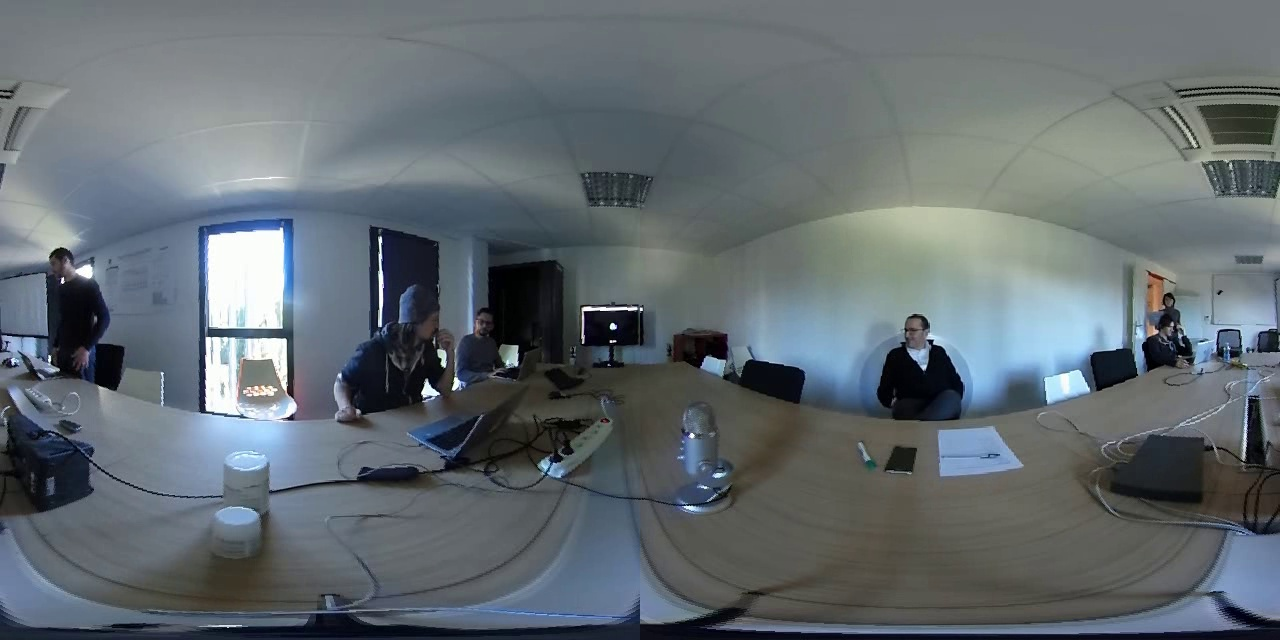person: (338, 277, 453, 415), (32, 234, 108, 370), (870, 301, 964, 410), (456, 301, 505, 379), (1149, 316, 1188, 373), (1152, 286, 1189, 318)
